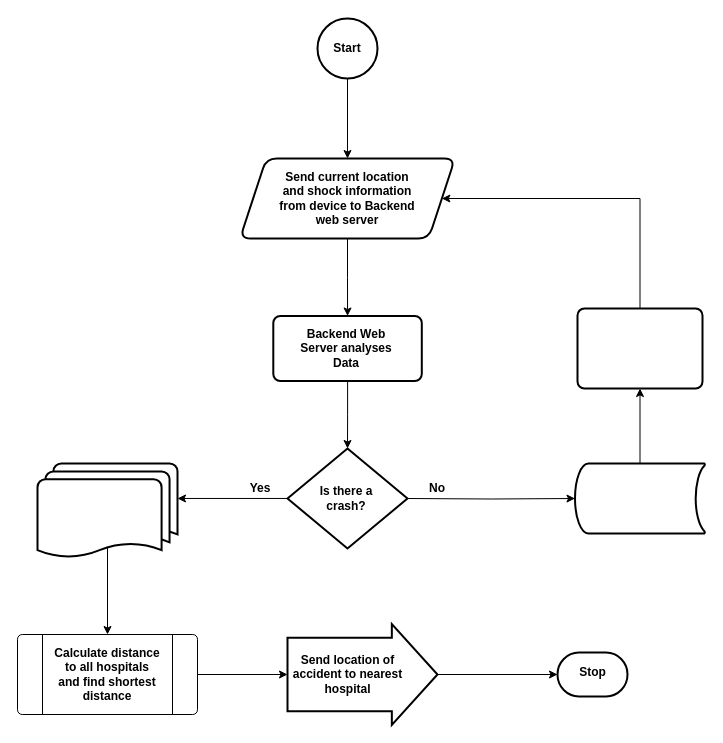
This 723x743 diagram has some shape labels left out. Each missing label, with the centre of its shape:
Get all hospital locations from Database: the point at 107,510
Save new device location to database: the point at 640,498
Update Device location in web interface: the point at 639,348
